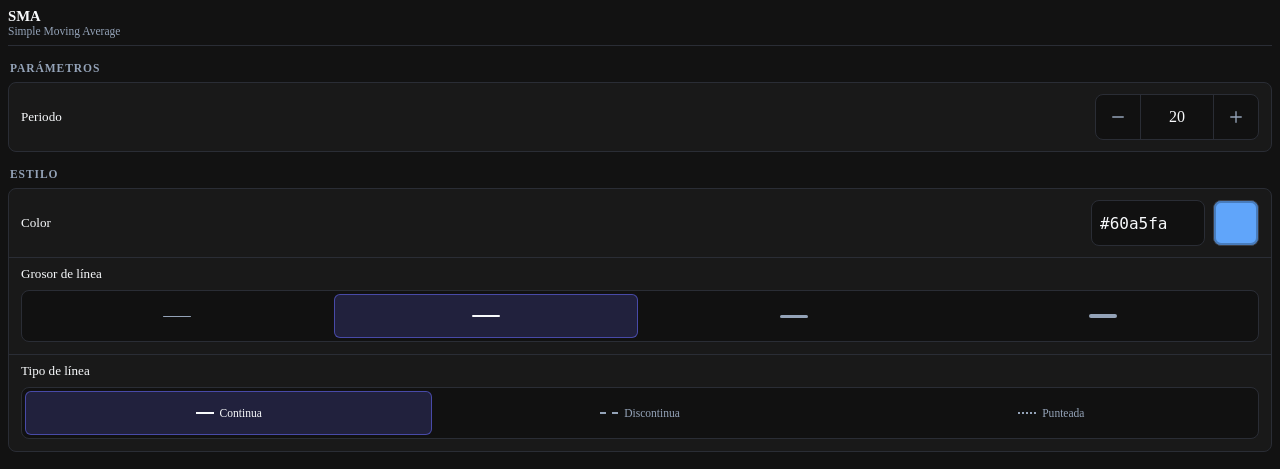
Test: IndicatorSettingsForm › las flechas del teclado suben y bajan un paso como el input nativo
Click the field labelled "Periodo". click: click(1177, 117)
box: left=1140, top=95, right=1214, bottom=139
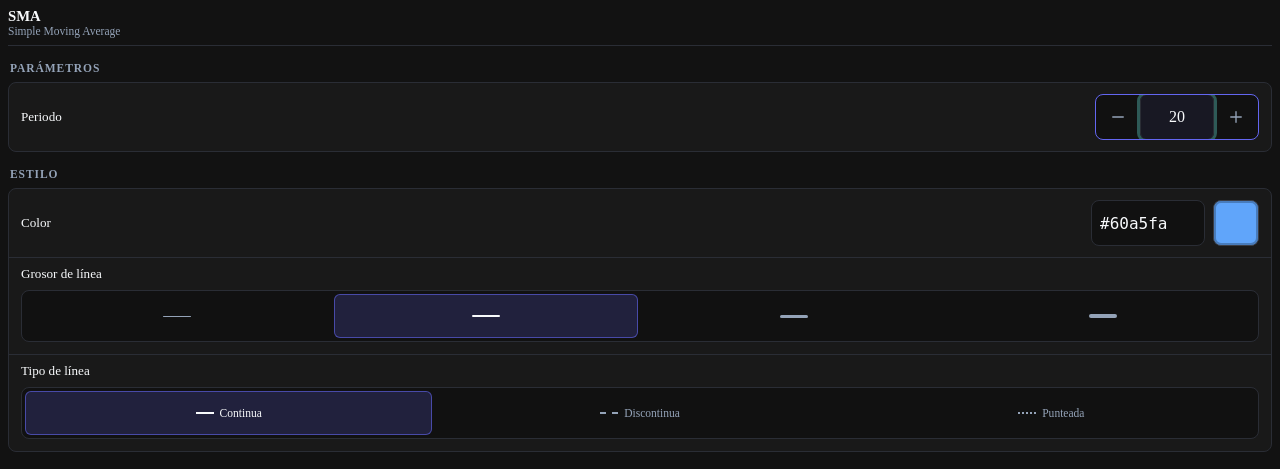
Press Arrowup Arrowup Arrowdown
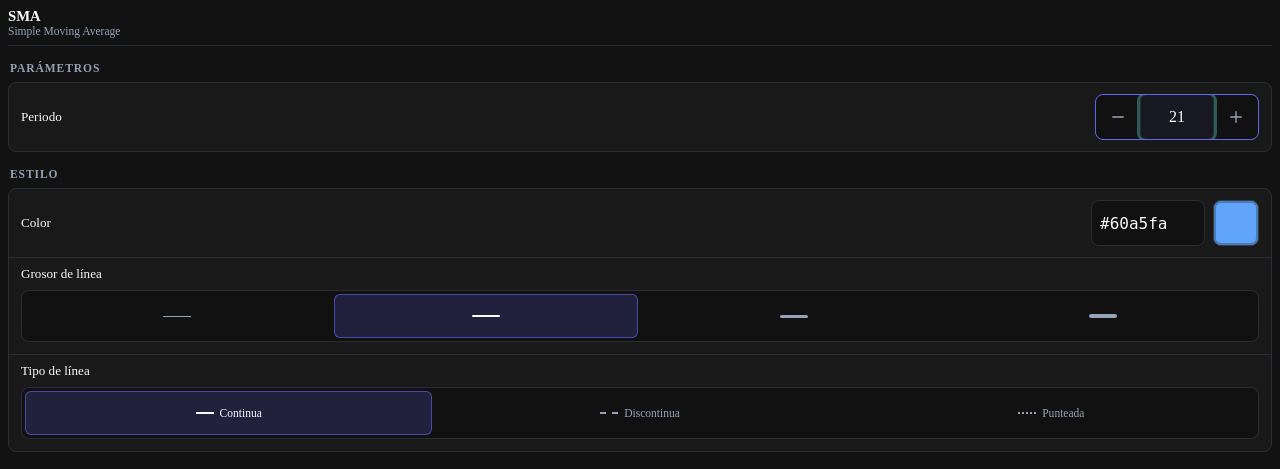
Check: the field labelled "Periodo" holds "21", box left=1140, top=95, right=1214, bottom=139
